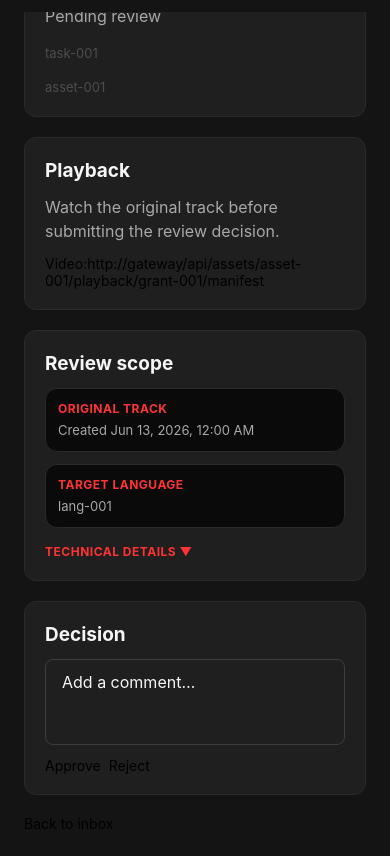
Scenario: ReviewDetailScreen › HP-1: approve posts a scoped decision, rotates session, and reveals publish
(page scrolled)
Expected: the text with test id "review-player" is shown, x1=45 y1=255 x2=345 y2=289
Step 1. Type "Looks good" into the text box with test id "review-comment-input" → point(195, 702), box x1=45 y1=659 x2=345 y2=745
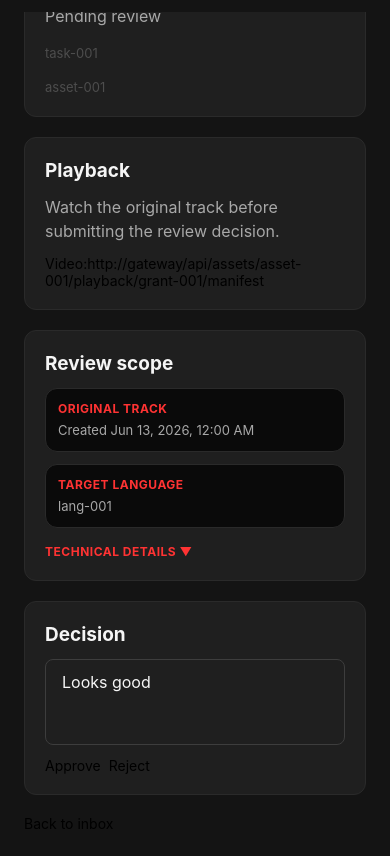
Step 2. Click the element with test id "review-approve" → point(73, 766), box x1=45 y1=757 x2=101 y2=774
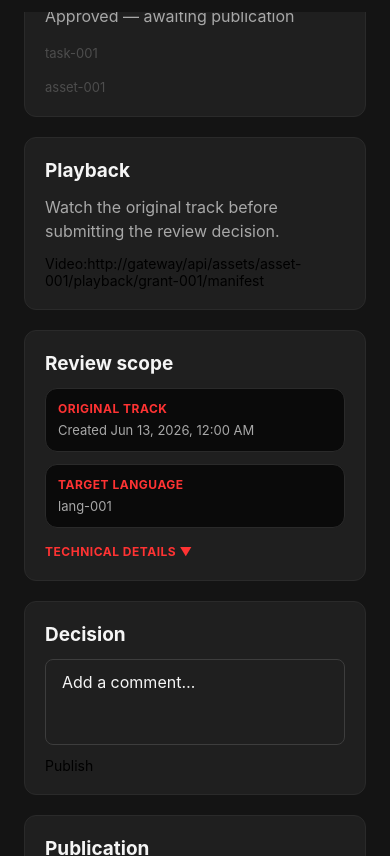
Result: the element with test id "publish-action" is shown at x1=45 y1=757 x2=93 y2=774
